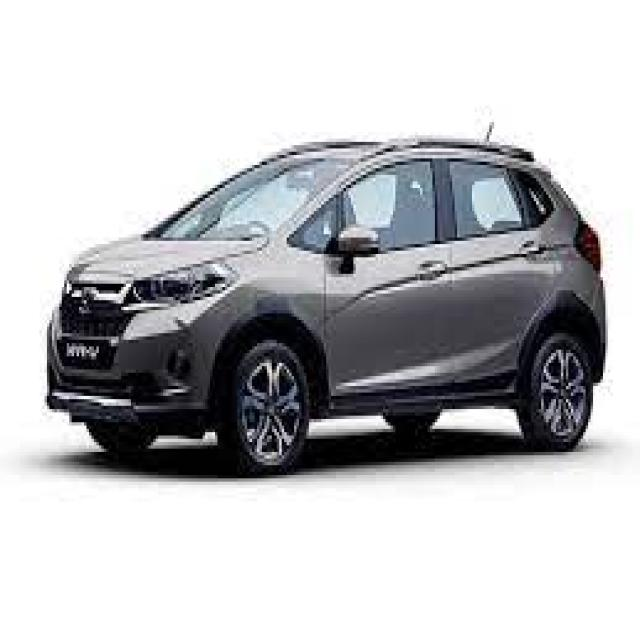car: (44, 124, 616, 476)
